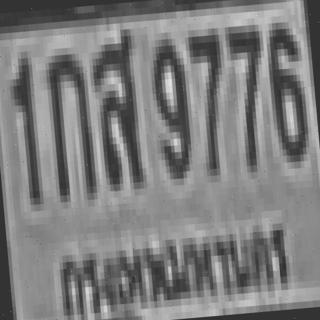A01: (41, 46, 94, 196)
A40: (88, 29, 142, 185)
N01: (7, 51, 40, 199)
N06: (264, 18, 307, 160)
N07: (224, 25, 267, 166), (186, 28, 228, 170)
N09: (147, 31, 190, 173)
P04: (44, 205, 296, 320)
